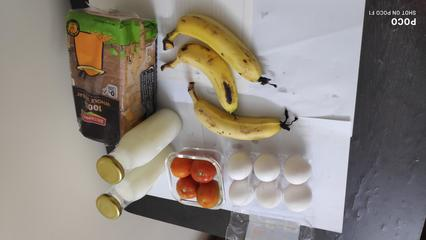banana: (174, 14, 274, 96), (190, 88, 284, 145)
bread: (58, 6, 161, 128)
eggs: (225, 149, 321, 211)
milk: (95, 141, 174, 227), (94, 107, 182, 184)
tomato: (164, 152, 224, 213)
